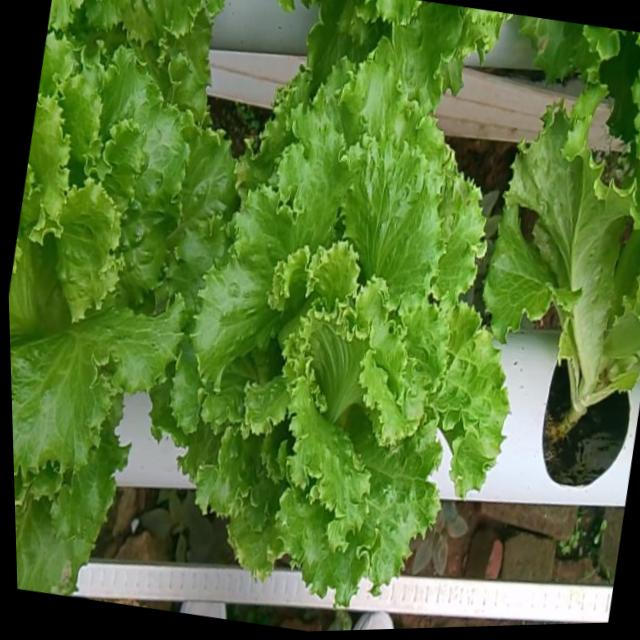Mature: (158, 71, 496, 614), (9, 58, 225, 492)
